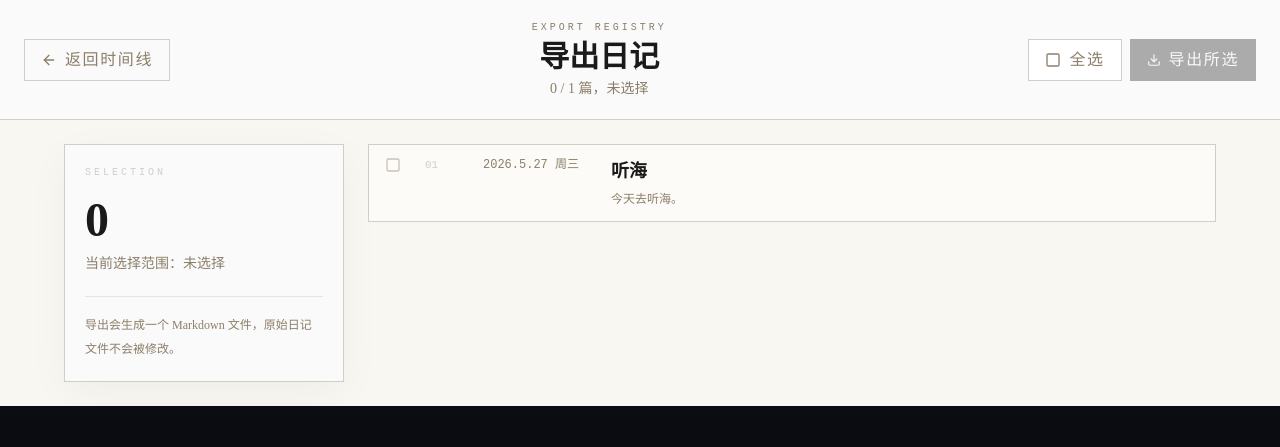
Test: archive utility pages visual shell › keeps Export selection flow while using the export registry shell
The width and height of the screenshot is (1280, 447).
Expected: the button "导出所选" is disabled, [1130, 38, 1256, 80]
Click the button "01 2026.5.27 周三 听海 今天去听海。". click: x=531, y=165
box: [368, 144, 1216, 222]
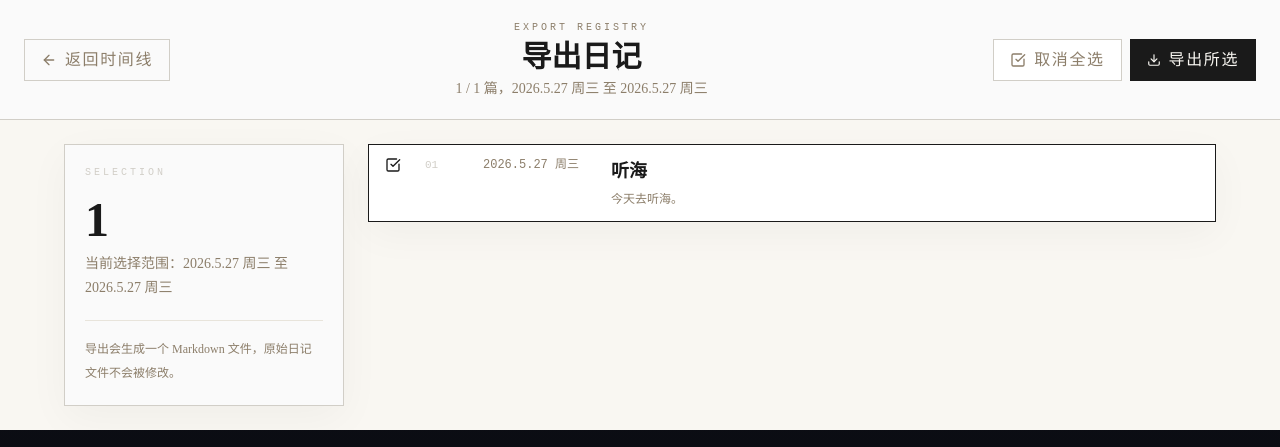
Now the button "导出所选" is enabled, box [1130, 38, 1256, 80]
